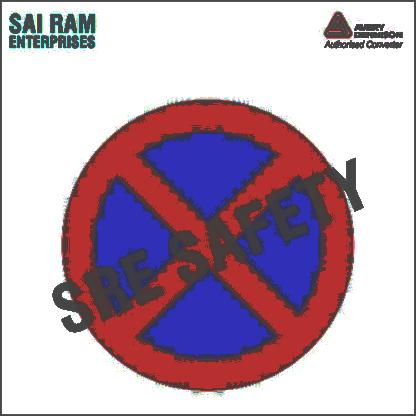No stopping: (55, 95, 358, 392)
